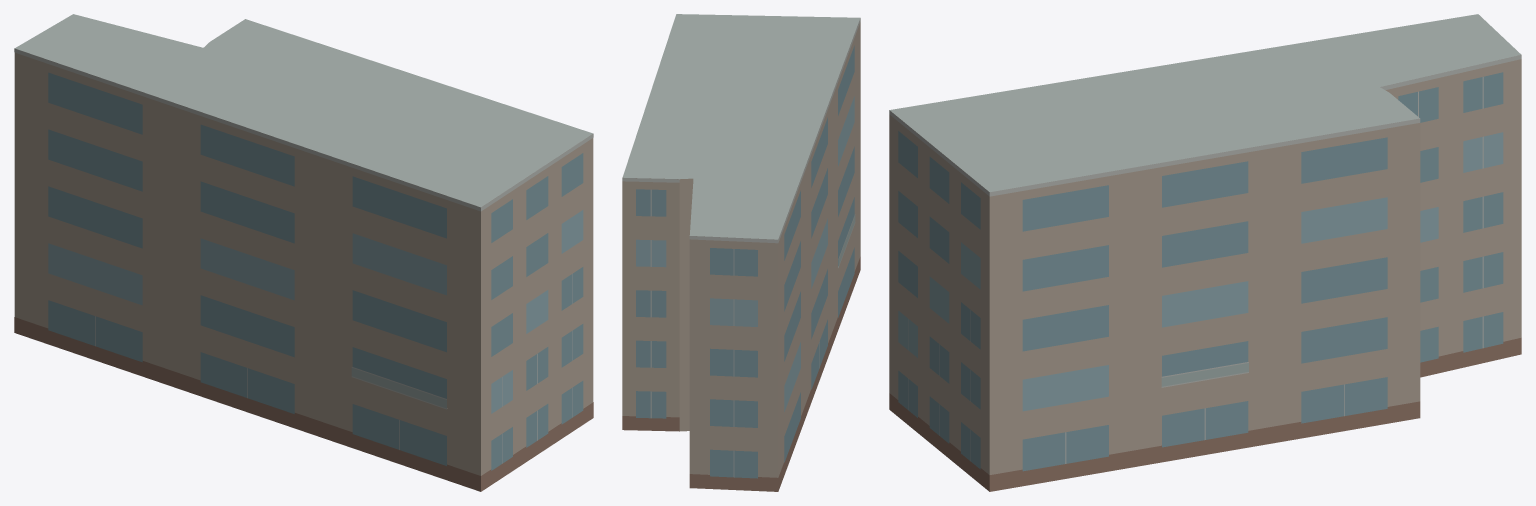
Rendered from survey-upis-32908003.glb.
3 renders of one model, left to right at view 1: azimuth 30°, elevation 25°; view 2: azimuth 150°, elevation 25°; view 3: azimuth 270°, elevation 25°, orthographic. The views are drawn at different scales.
Parts seen in each view (by area): view 1: survey-upis-32908003.tmp; view 2: survey-upis-32908003.tmp; view 3: survey-upis-32908003.tmp.
Part boxes in pixels (x1=…): survey-upis-32908003.tmp: x1=14, y1=14, x2=593, y2=491; survey-upis-32908003.tmp: x1=622, y1=14, x2=860, y2=491; survey-upis-32908003.tmp: x1=889, y1=14, x2=1521, y2=491.
Size of the model in its own units: 21.58 by 16.9 by 32.32.
